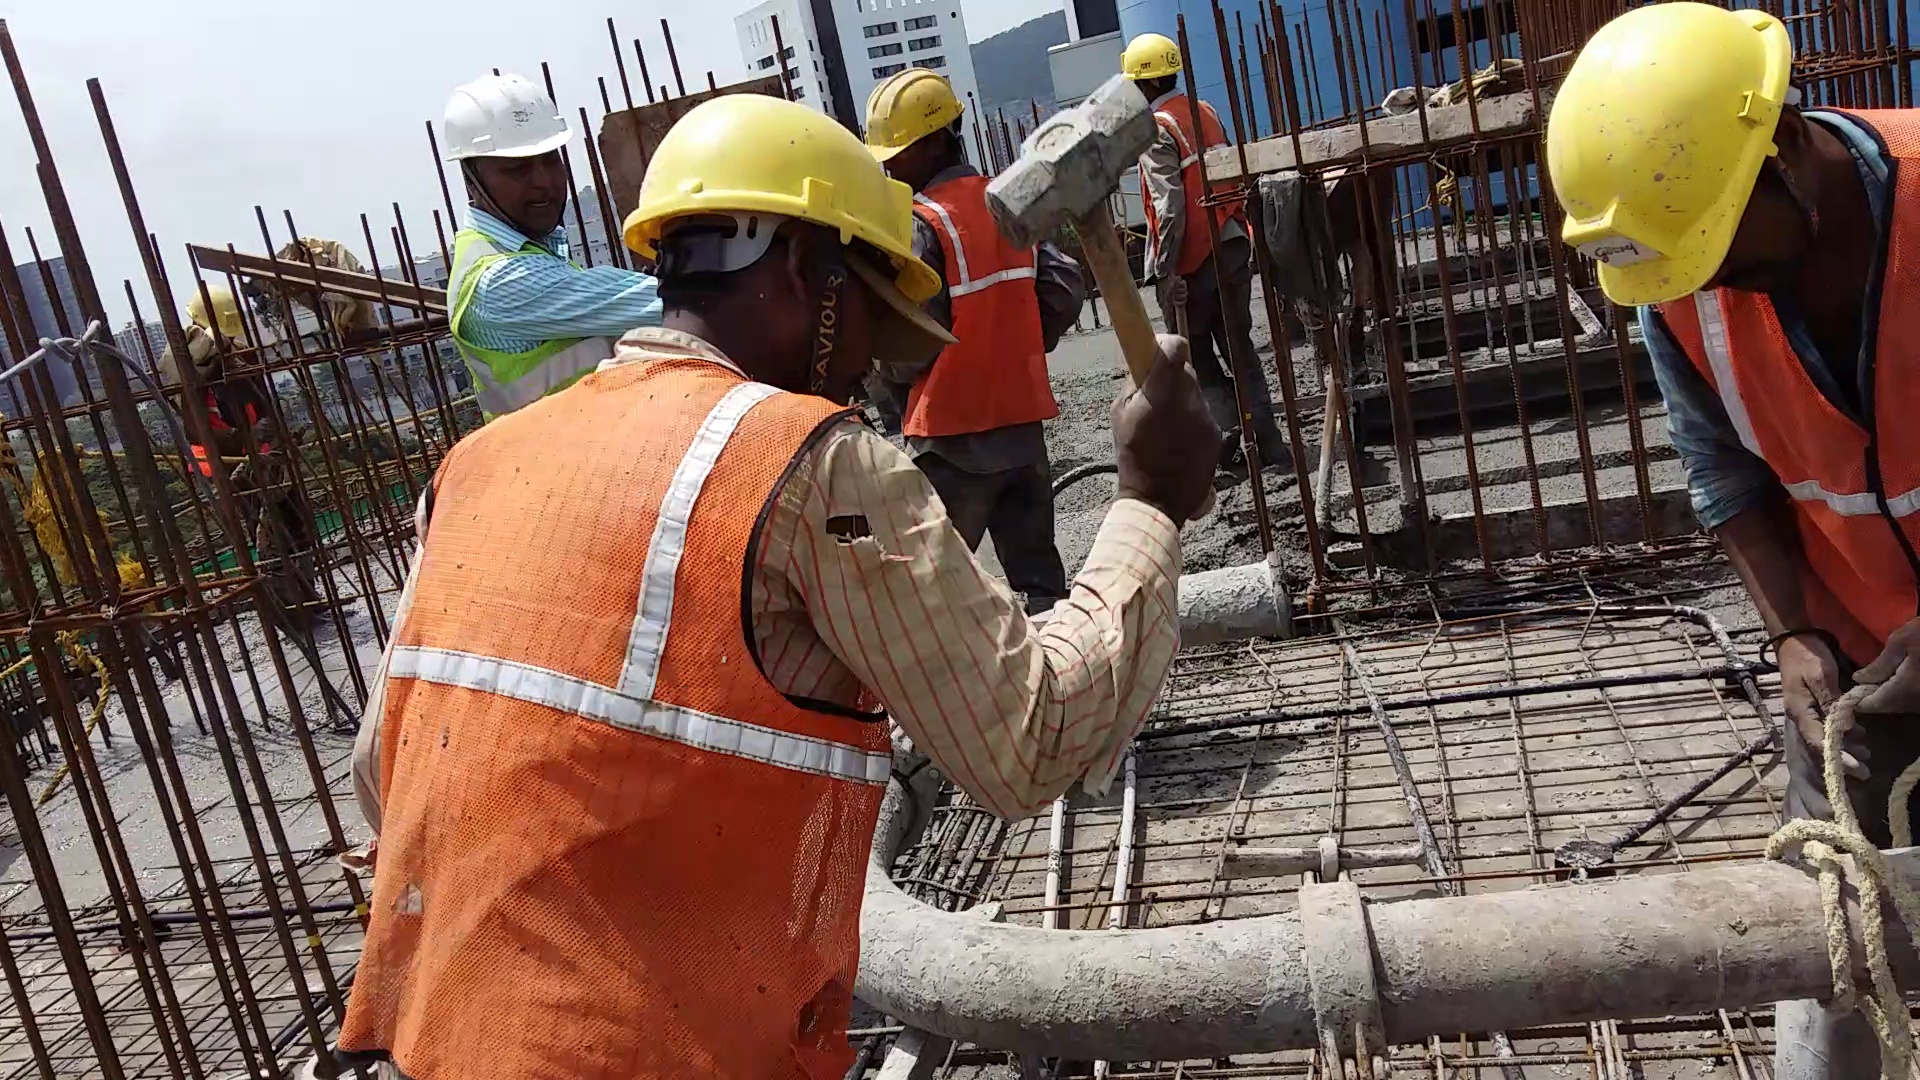SAFE: (400, 111, 895, 957), (1551, 5, 1920, 897), (872, 73, 1058, 442), (438, 70, 609, 409)
